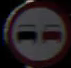No overtake: (11, 10, 64, 55)
